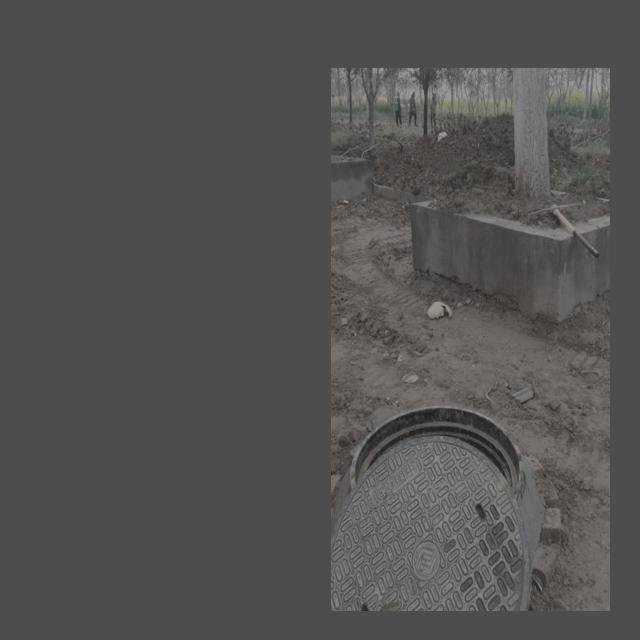uncovered: (335, 404, 533, 611)
